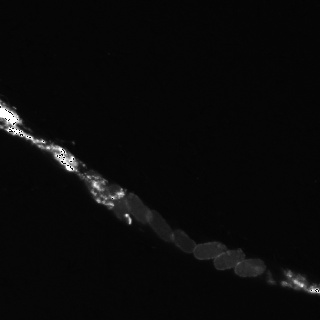embryo: (146, 209, 173, 242), (123, 193, 151, 224), (107, 185, 130, 221), (213, 249, 245, 270), (193, 242, 227, 259), (171, 229, 195, 253), (234, 259, 265, 277)
